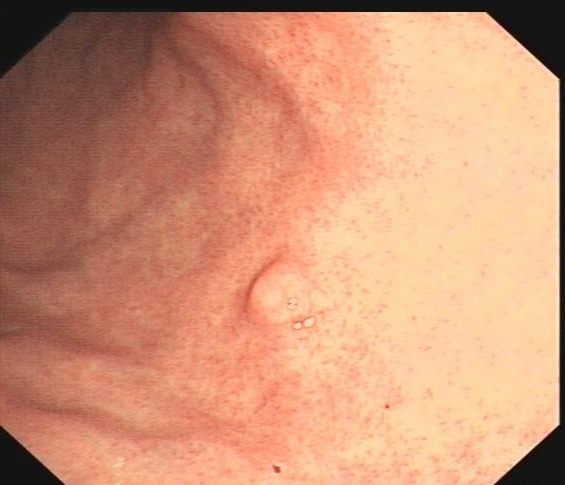Polyp: (247, 255, 316, 342)
